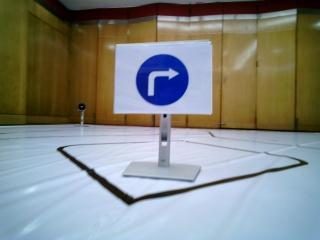right: (122, 45, 212, 116)
